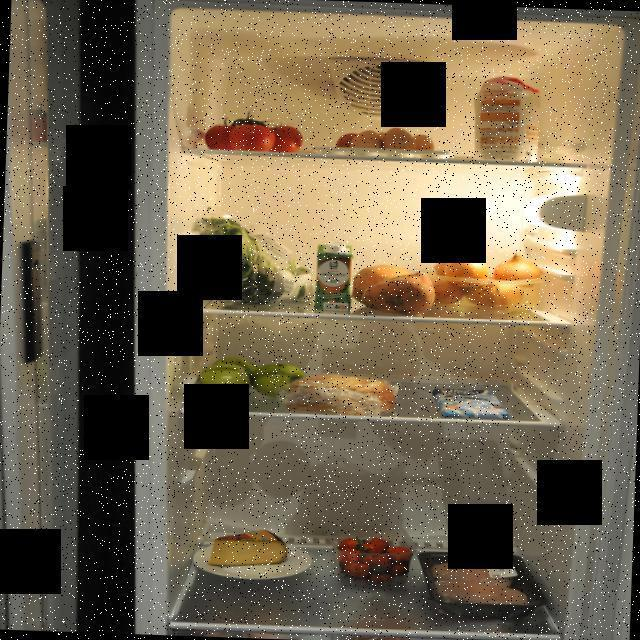apple: (196, 354, 311, 403)
bread: (280, 370, 399, 416)
cheese: (204, 528, 293, 570)
chicken_breast: (414, 550, 550, 623)
chocolate: (429, 386, 512, 420)
eggs: (333, 124, 439, 158)
heavy_cream: (311, 240, 357, 314)
onion: (420, 246, 544, 316)
spinach: (190, 214, 320, 308)
strawberries: (332, 528, 416, 584)
sugar: (467, 74, 548, 162)
sweet_potato: (344, 260, 437, 316)
tomato: (196, 107, 306, 154)
